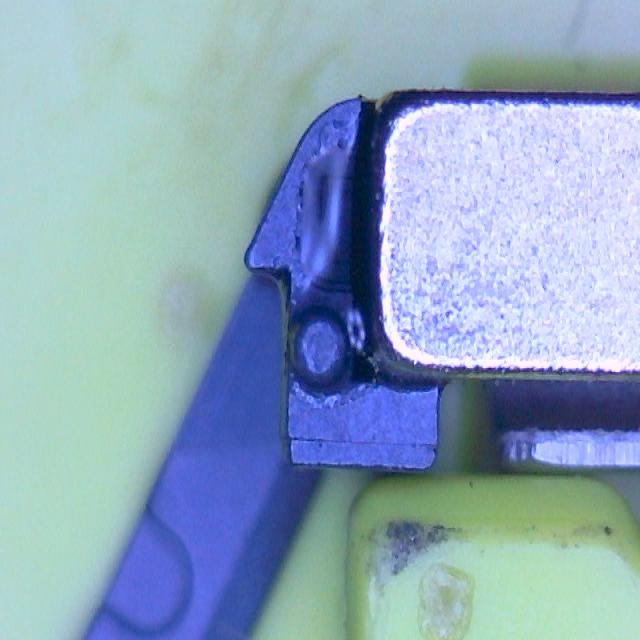over: (296, 142, 361, 294)
